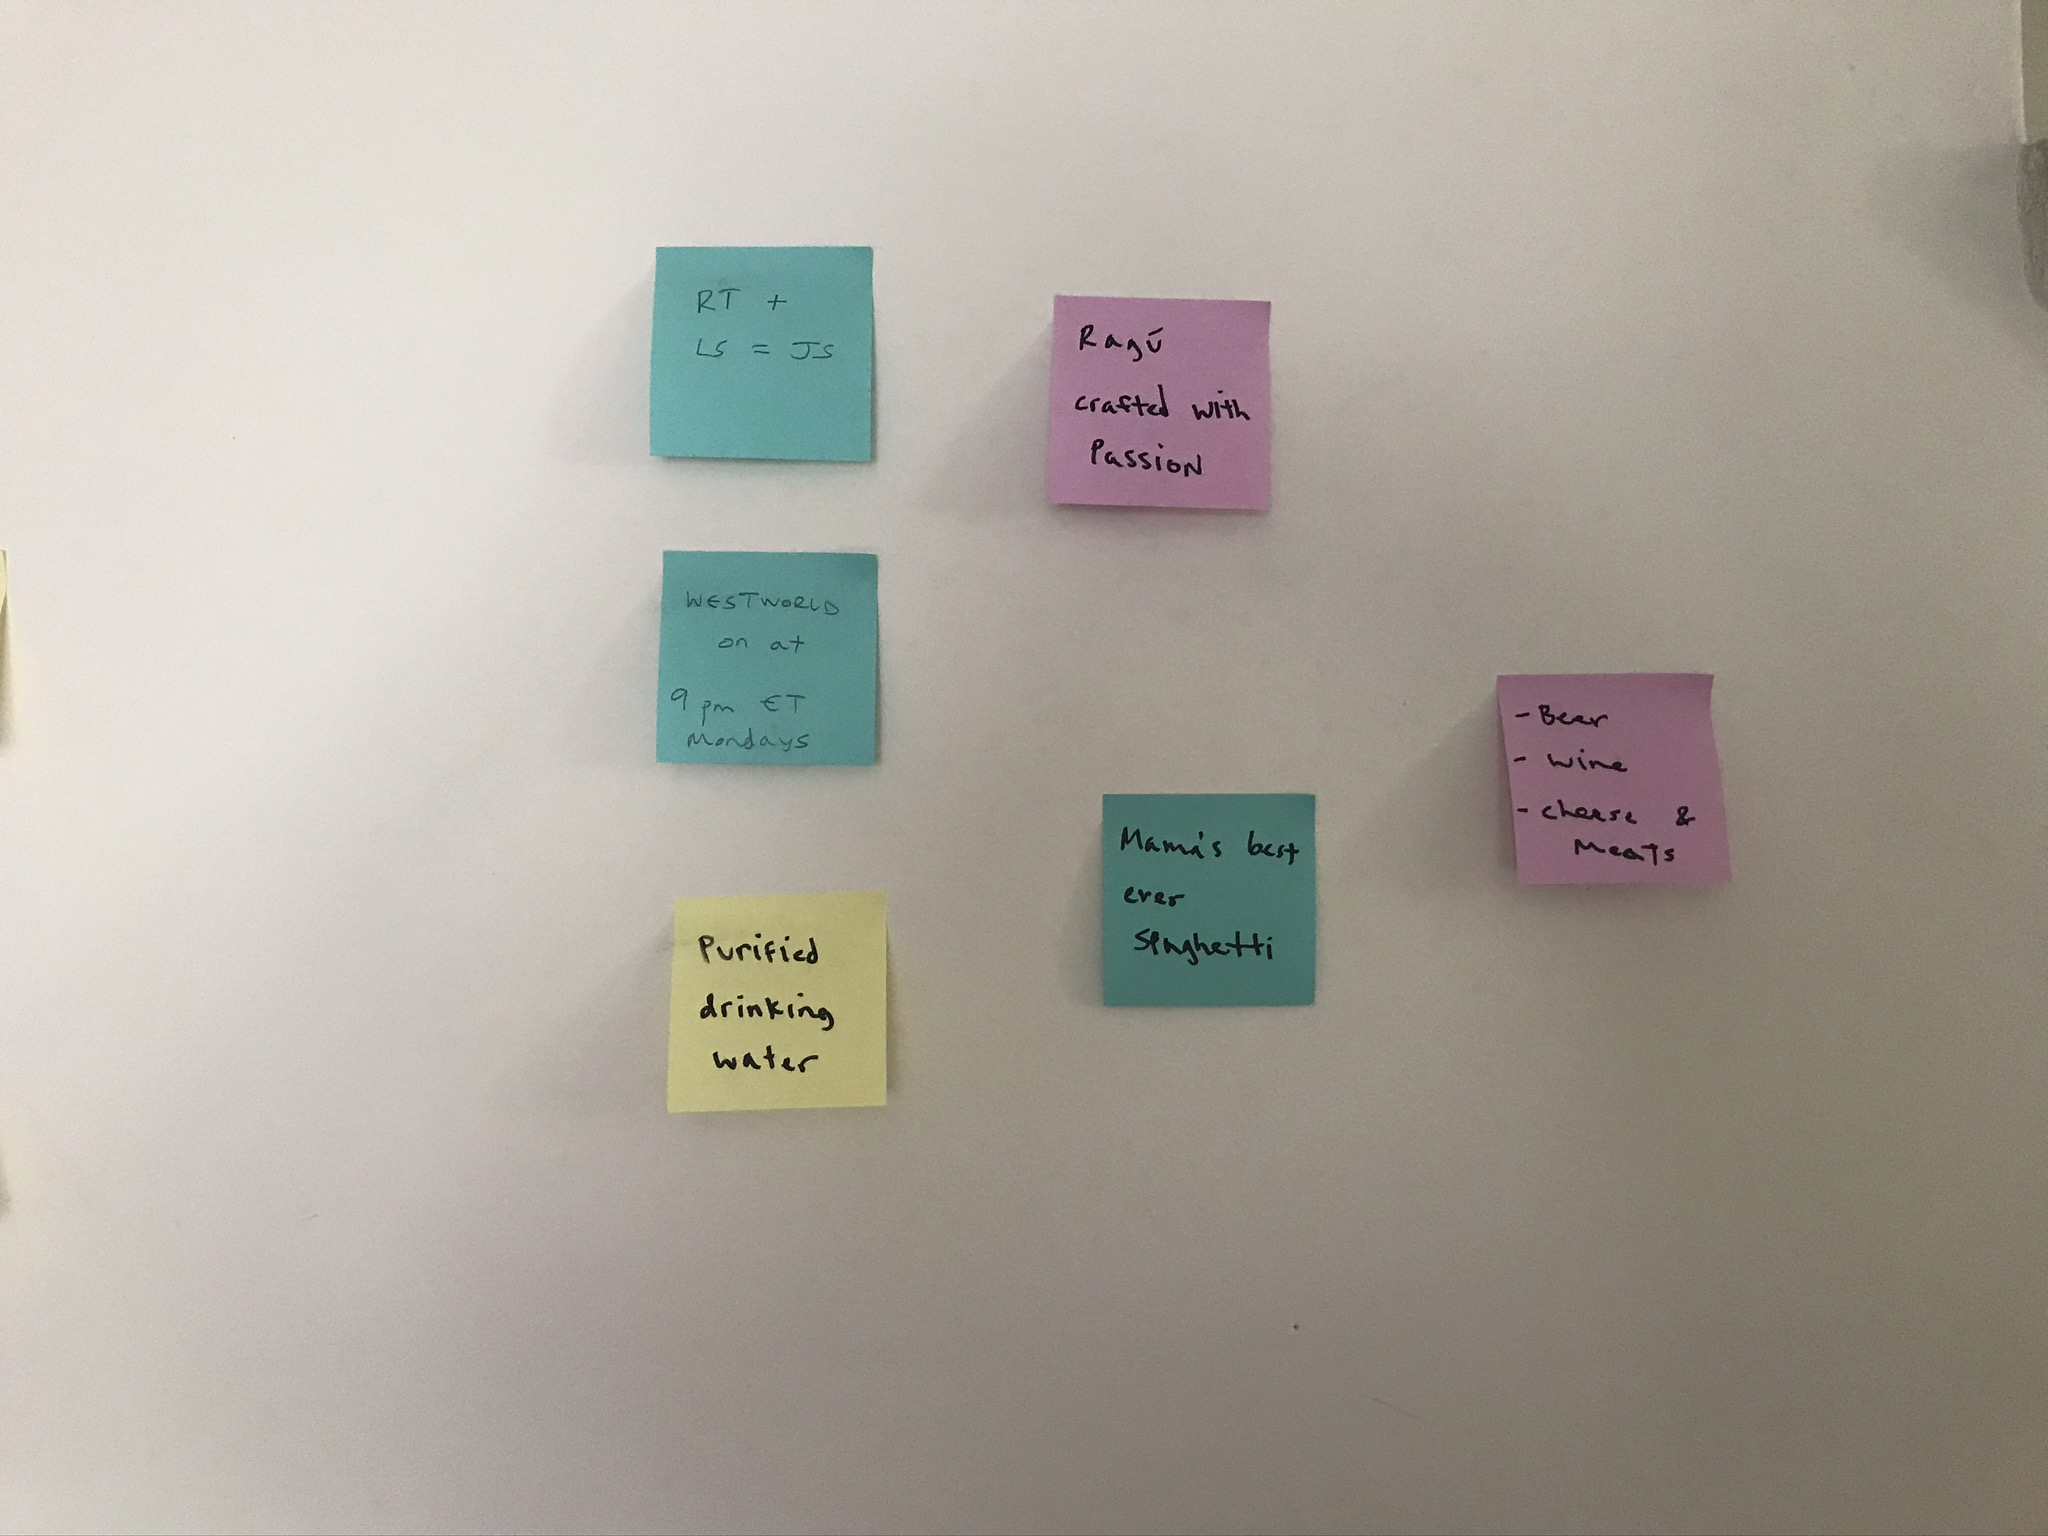sticky: (1493, 671, 1734, 883), (664, 889, 890, 1113), (645, 244, 877, 461), (655, 549, 884, 766), (1048, 294, 1274, 513), (1101, 795, 1314, 1008)
